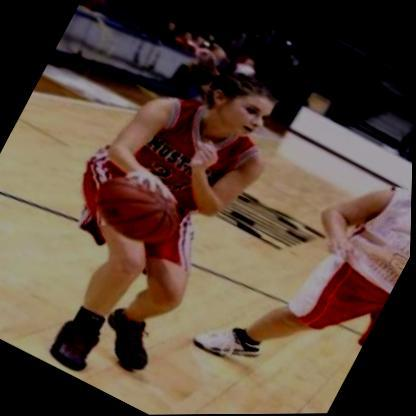basketball: (87, 164, 192, 256)
